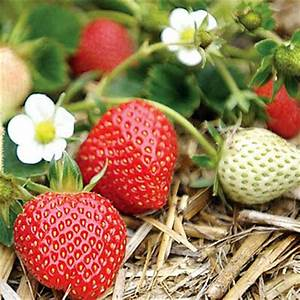Fresa: (10, 184, 134, 300), (73, 95, 182, 219)
